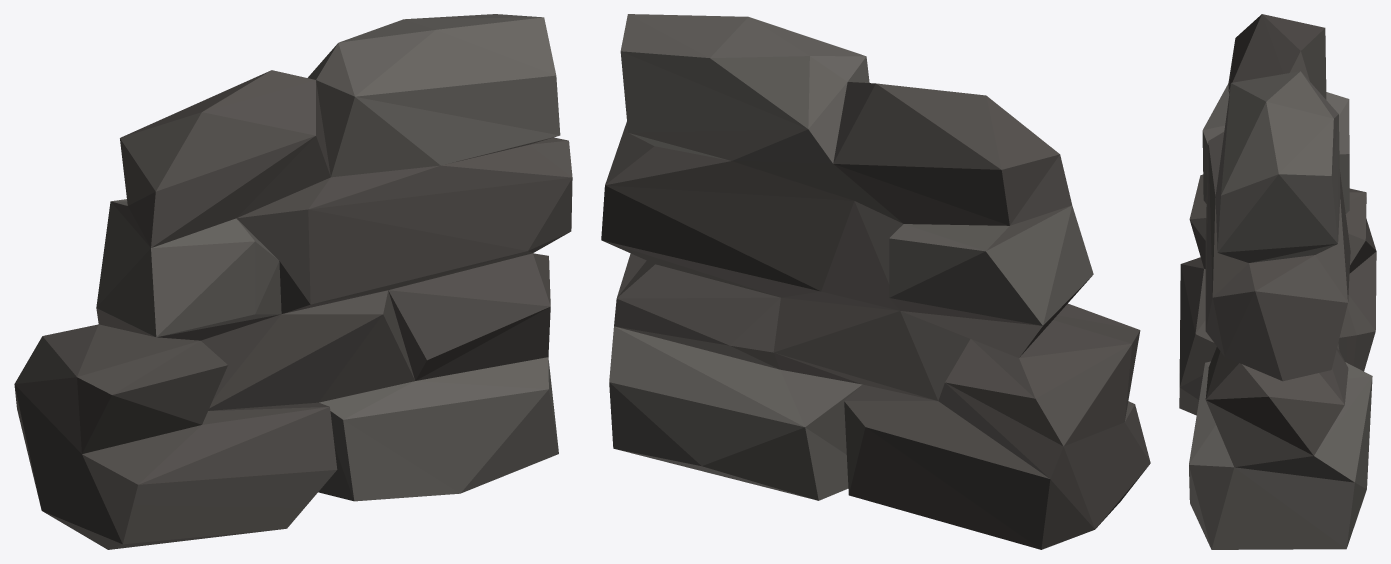
The model's file is env_stonewall3.gltf.
3 renders of one model, left to right at view 1: azimuth 30°, elevation 25°; view 2: azimuth 150°, elevation 25°; view 3: azimuth 270°, elevation 25°, orthographic. The views are drawn at different scales.
Visible parts, largest first — view 1: env_stonewall3; view 2: env_stonewall3; view 3: env_stonewall3.
Boxes of the visible parts, <box> form: env_stonewall3: <box>14,14,572,549</box>; env_stonewall3: <box>601,14,1150,549</box>; env_stonewall3: <box>1179,14,1376,549</box>.
Size of the model in its own units: 1.31 by 1.07 by 0.4678.
Materials: 1 (1 with a texture image).
